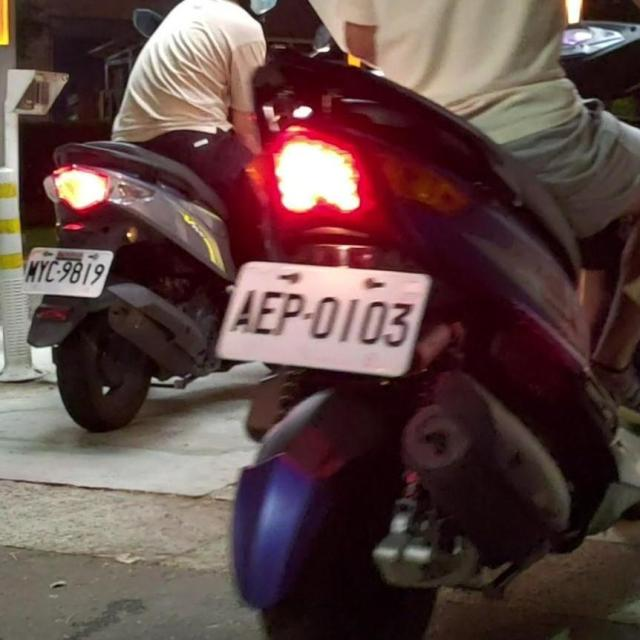W: (215, 243, 437, 387), (18, 241, 113, 300)
